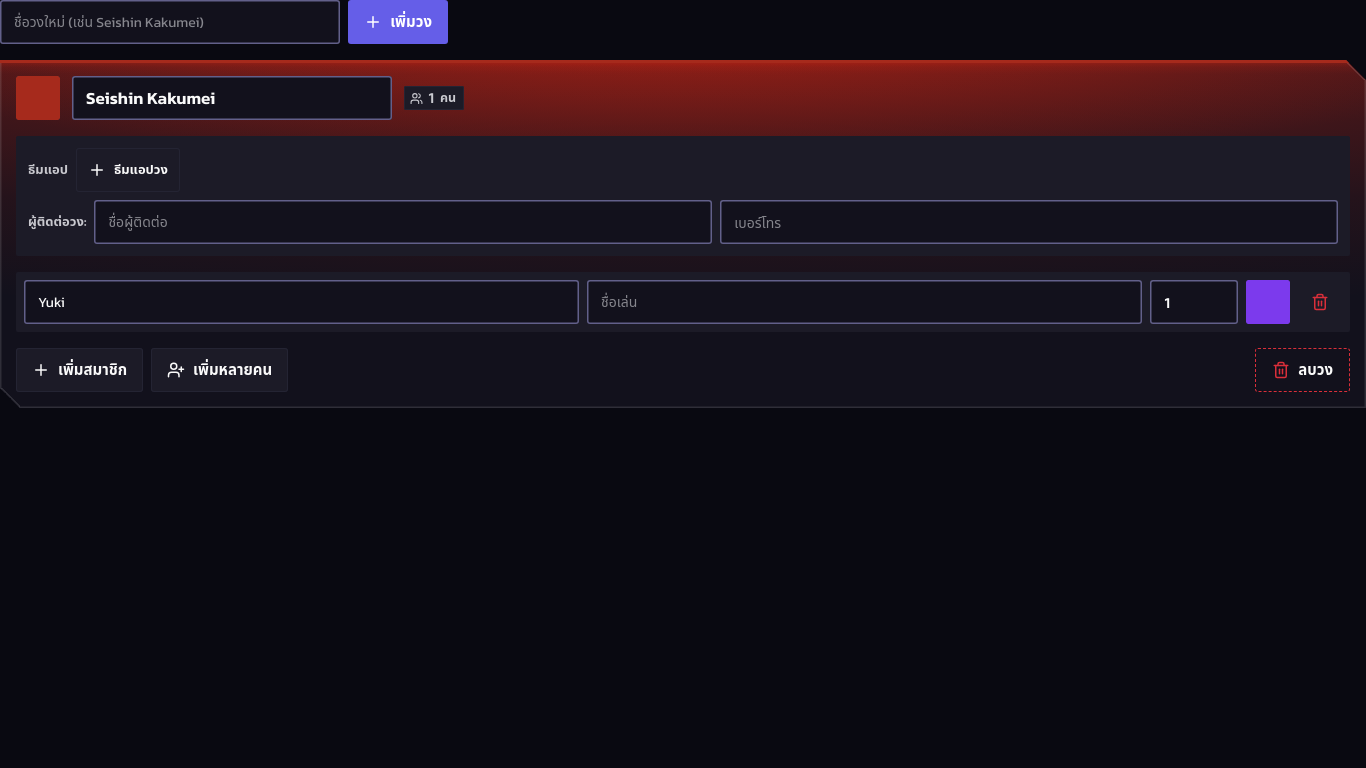
it: Artists: a member with history leaves the band instead of being deleted › says what stays, and ออกจากวง marks left_at - nothing is deleted
Click the button named "ลบสมาชิก" at [1320, 302], box [1298,280,1342,324]
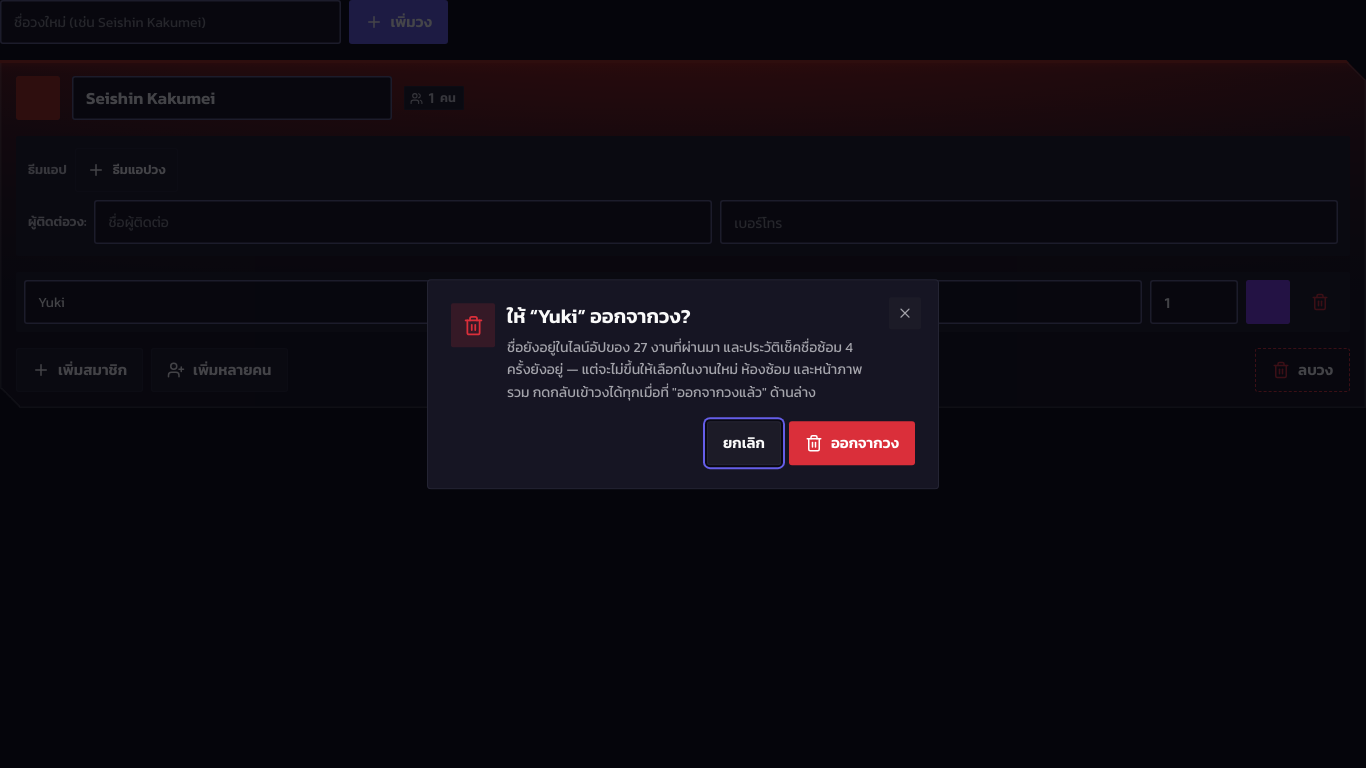
Expected: the text "เช็คชื่อซ้อม 4 ครั้งยังอยู่" is shown, [507,337,862,403]
Click the button "ออกจากวง" at [852, 443], box [789,421,915,465]
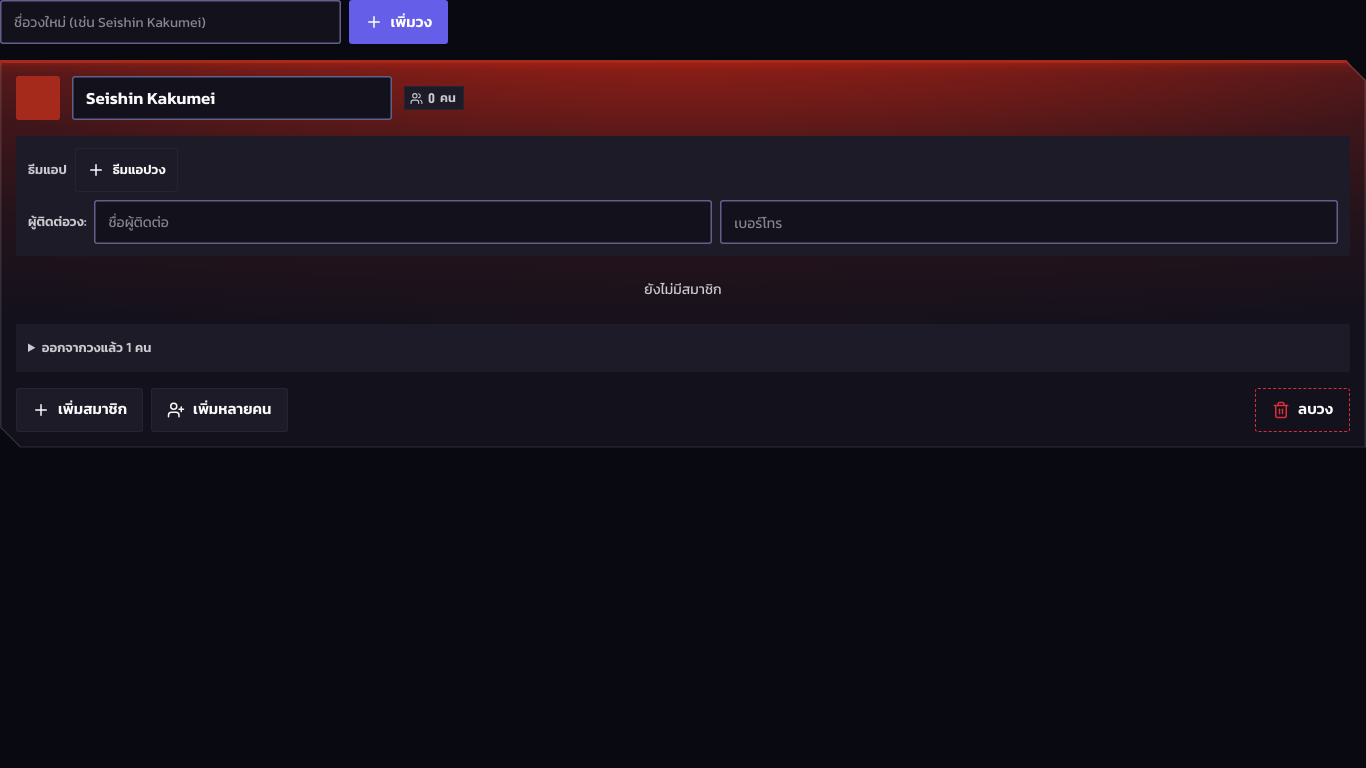
Expected: no elements labelled "ชื่อ" are shown
Expected: the heading "ออกจากวงแล้ว 1 คน" is shown, [42,338,151,357]
